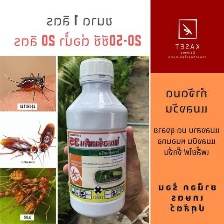insecticide: (63, 57, 131, 220)
